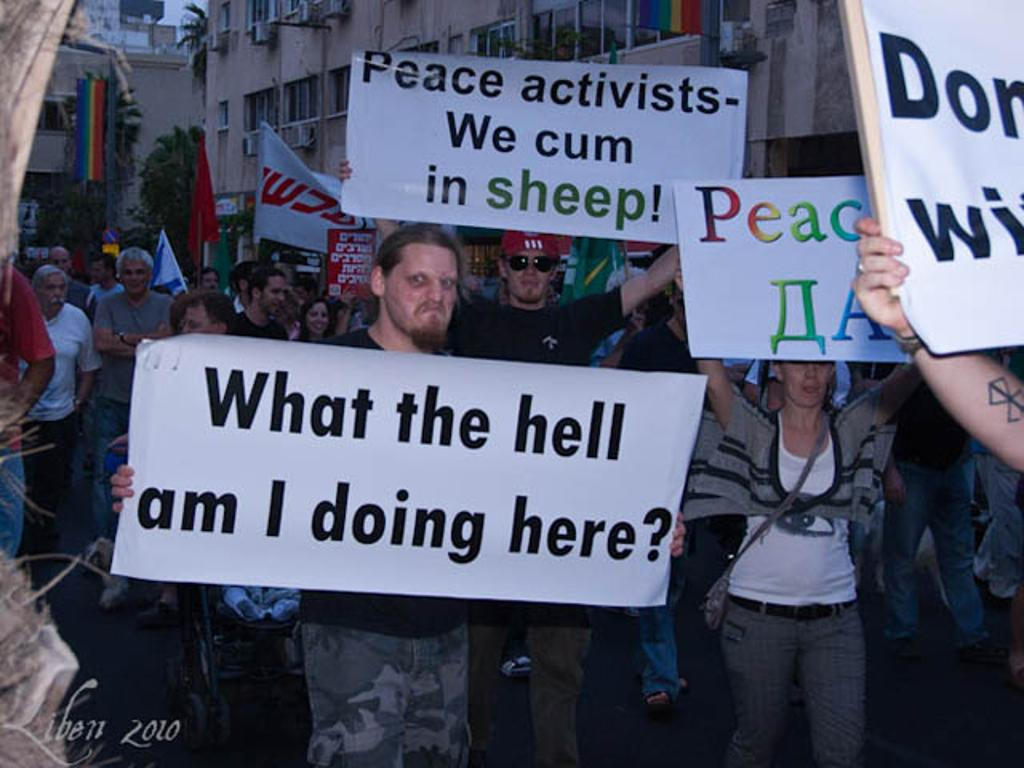face: (384, 255, 458, 337), (781, 343, 833, 406), (508, 249, 554, 301), (182, 308, 212, 336), (44, 277, 65, 315), (262, 283, 285, 316), (124, 263, 147, 294), (307, 307, 328, 333), (52, 253, 69, 273), (203, 273, 217, 293), (92, 263, 106, 282), (501, 282, 510, 305), (293, 288, 307, 300)
